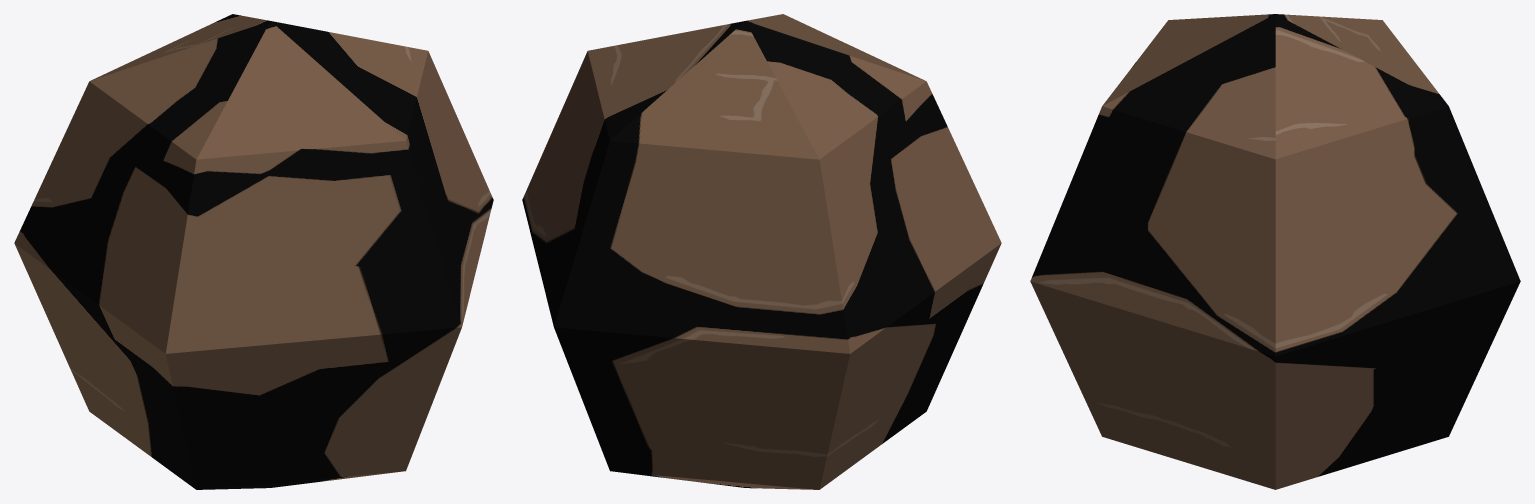
File: drop.fbx
3 views of the same model, side by side, from view 1: azimuth 30°, elevation 25°; view 2: azimuth 150°, elevation 25°; view 3: azimuth 270°, elevation 25° (orthographic).
Visible parts, largest first — view 1: pSphere9; view 2: pSphere9; view 3: pSphere9.
Part boxes in pixels (bbox=[...]): pSphere9: bbox=[14, 14, 493, 489]; pSphere9: bbox=[522, 14, 1001, 489]; pSphere9: bbox=[1030, 14, 1520, 489].
Bounding box in the file's own units: 3.62 × 4 × 3.8.
